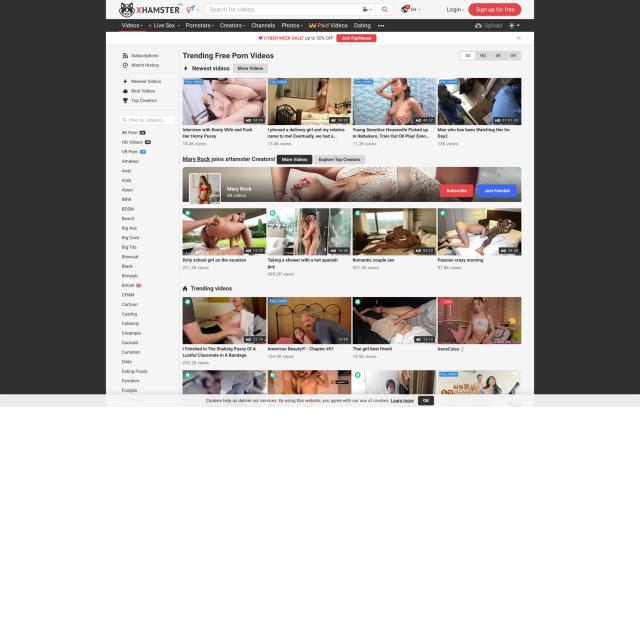input: (203, 2, 395, 16), (119, 115, 176, 125)
logo: (115, 0, 184, 15)
navigation: (119, 127, 154, 393), (118, 20, 386, 32)
